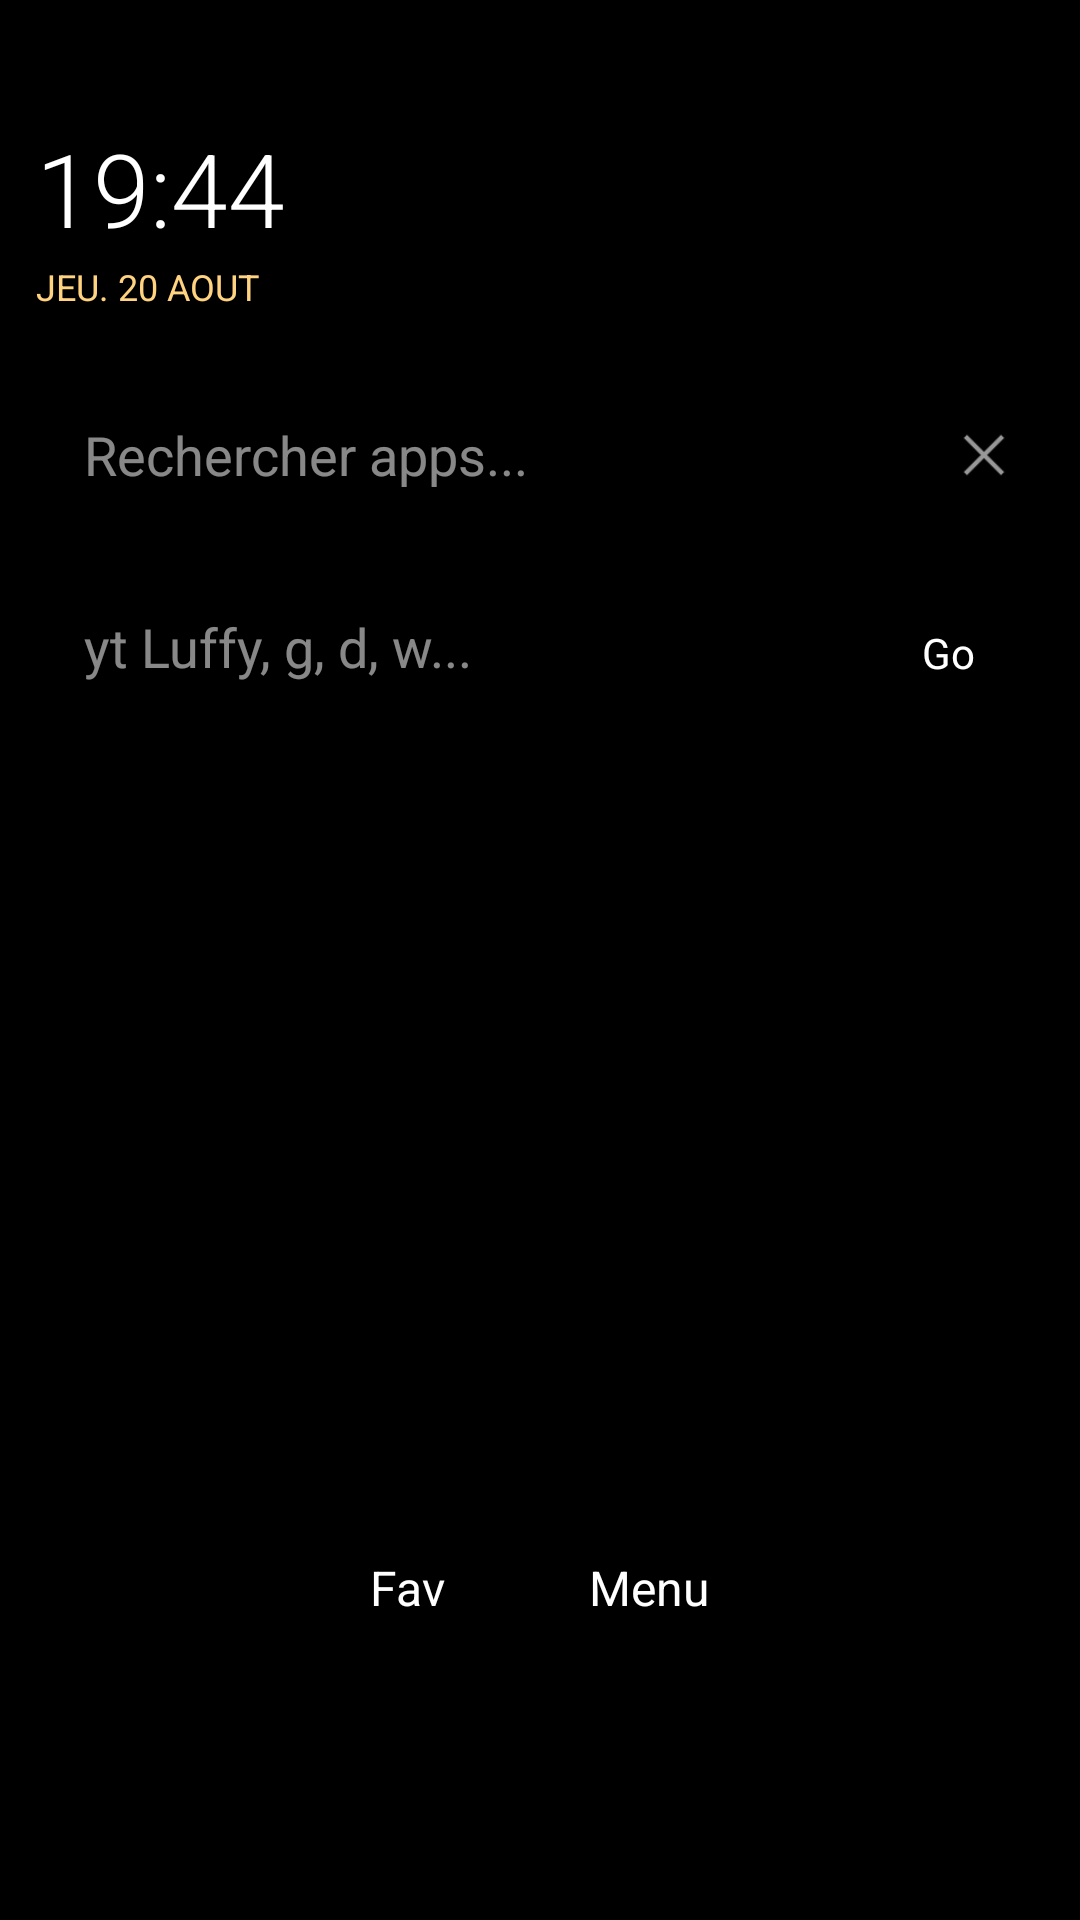

Icon bounding boxes for this 1080px x 1920px phone screenshot, format (x1, y1, x2, y2):
close clear cancel: (964, 435, 1004, 475)
